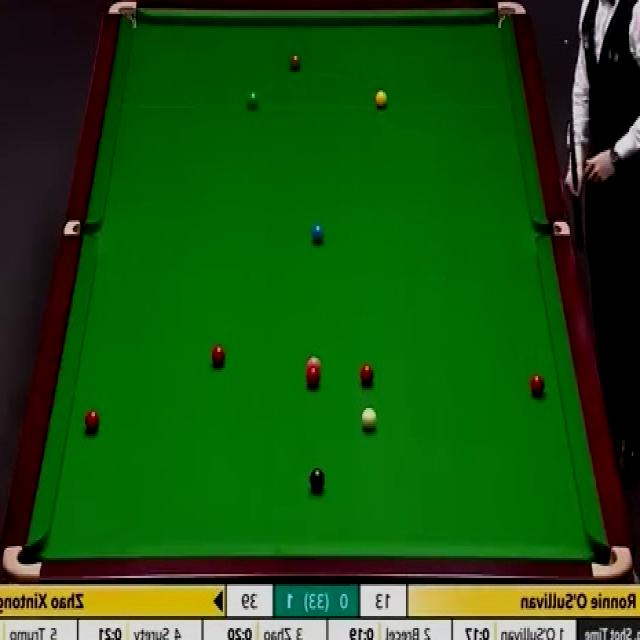black-ball: (309, 468, 326, 492)
blue-ball: (313, 225, 324, 245)
brown-ball: (288, 53, 304, 73)
green-ball: (247, 89, 260, 110)
pink-ball: (309, 356, 322, 376)
red-ball: (85, 408, 101, 435), (530, 376, 547, 398), (212, 345, 226, 367), (307, 370, 320, 392), (360, 366, 374, 386)
white-ball: (360, 407, 379, 432)
yellow-ball: (375, 89, 388, 108)
